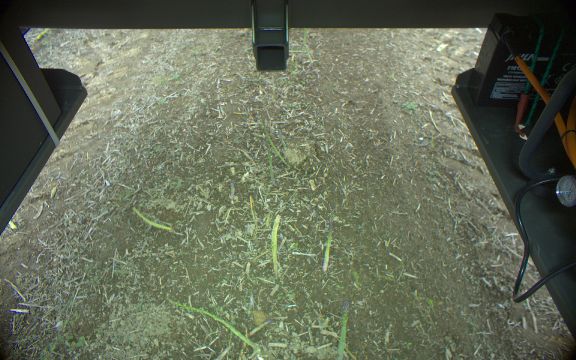aspa: (168, 297, 258, 351), (212, 318, 275, 360), (260, 120, 287, 165), (129, 206, 173, 232), (336, 298, 351, 359), (270, 213, 282, 276), (263, 141, 276, 186), (322, 216, 332, 272), (275, 127, 286, 152)
